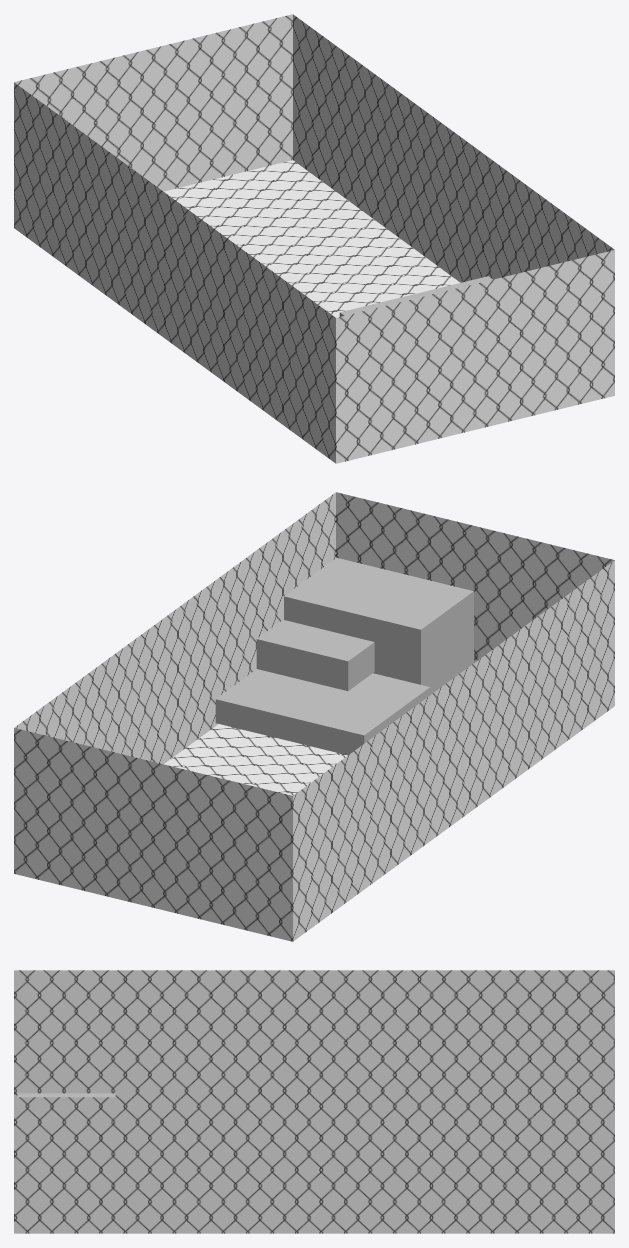
File: flipkart grid.dae
The picture shows the model from 3 angles, top to bottom: view 1: azimuth 30°, elevation 25°; view 2: azimuth 150°, elevation 25°; view 3: azimuth 270°, elevation 25°; orthographic projection. The views are drawn at different scales.
Visible parts, largest first — view 1: Cube, Flyer box; view 2: Cube, Medium box, Flyer box, Small box; view 3: Cube, Medium box.
Boxes of the visible parts, box(x1,y1,x2,y2) form: Cube: box(14, 14, 614, 463); Flyer box: box(339, 276, 492, 316); Cube: box(14, 492, 614, 941); Medium box: box(284, 558, 473, 695); Flyer box: box(215, 669, 429, 755); Small box: box(256, 620, 374, 690); Cube: box(14, 970, 614, 1233); Medium box: box(17, 1093, 115, 1097).
Bounding box in the file's own units: 0.62 × 1.24 × 0.31.
